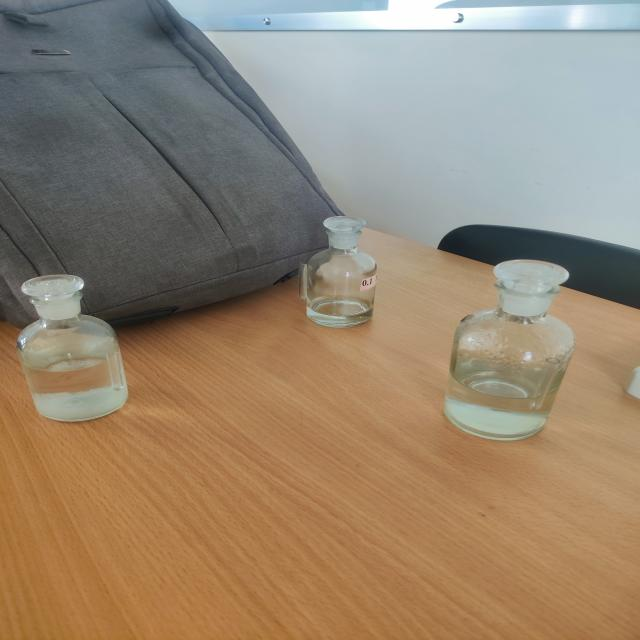Reagent_Bottle: (436, 242, 598, 458), (0, 261, 166, 439), (263, 191, 405, 345)
